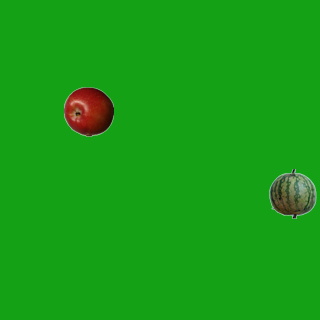Apple Braeburn: (63, 86, 113, 136)
Watermelon: (267, 168, 317, 218)
